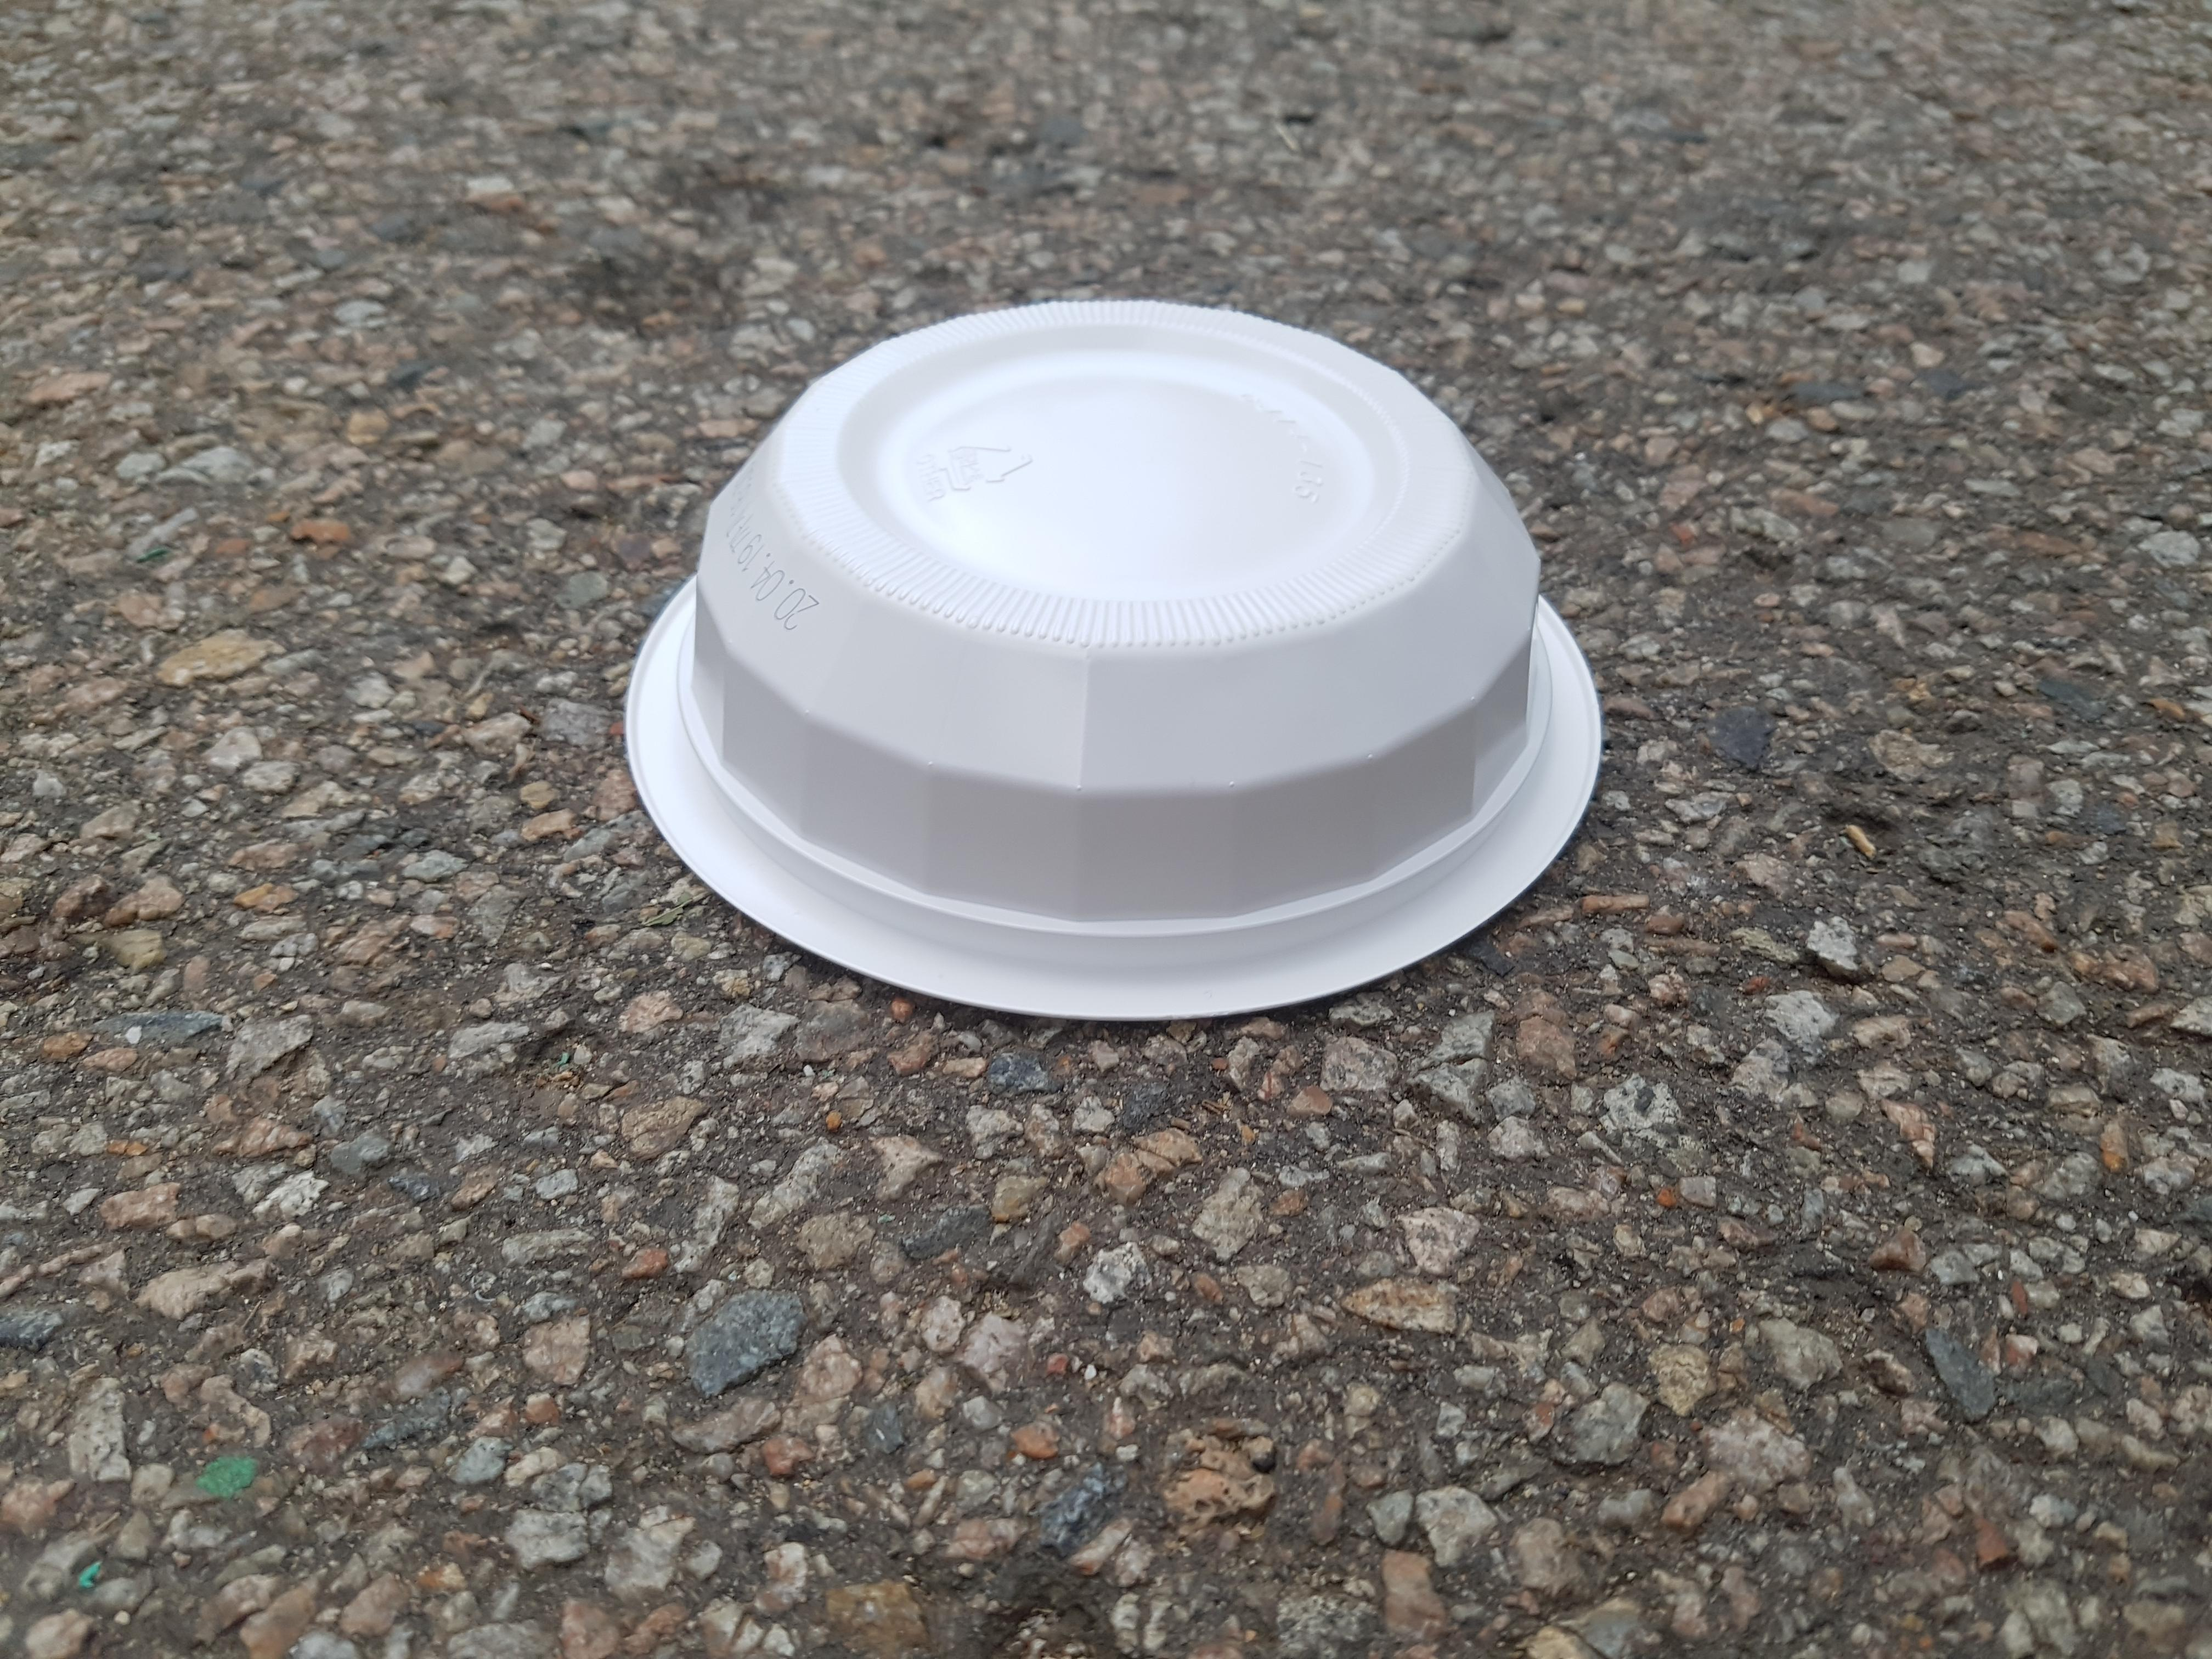bottle: (651, 253, 1663, 1114)
